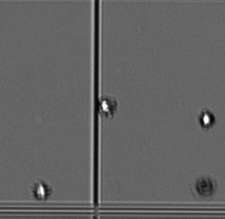Dead Cell: (194, 175, 213, 196)
Living Cell: (31, 180, 50, 199), (98, 96, 116, 116), (198, 108, 215, 129)
